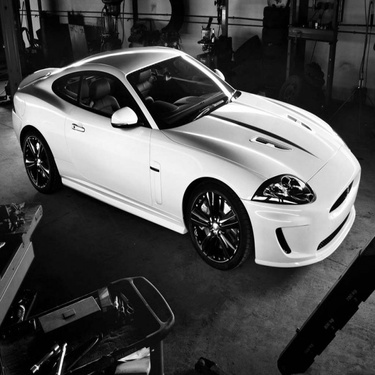car: (11, 43, 360, 271)
